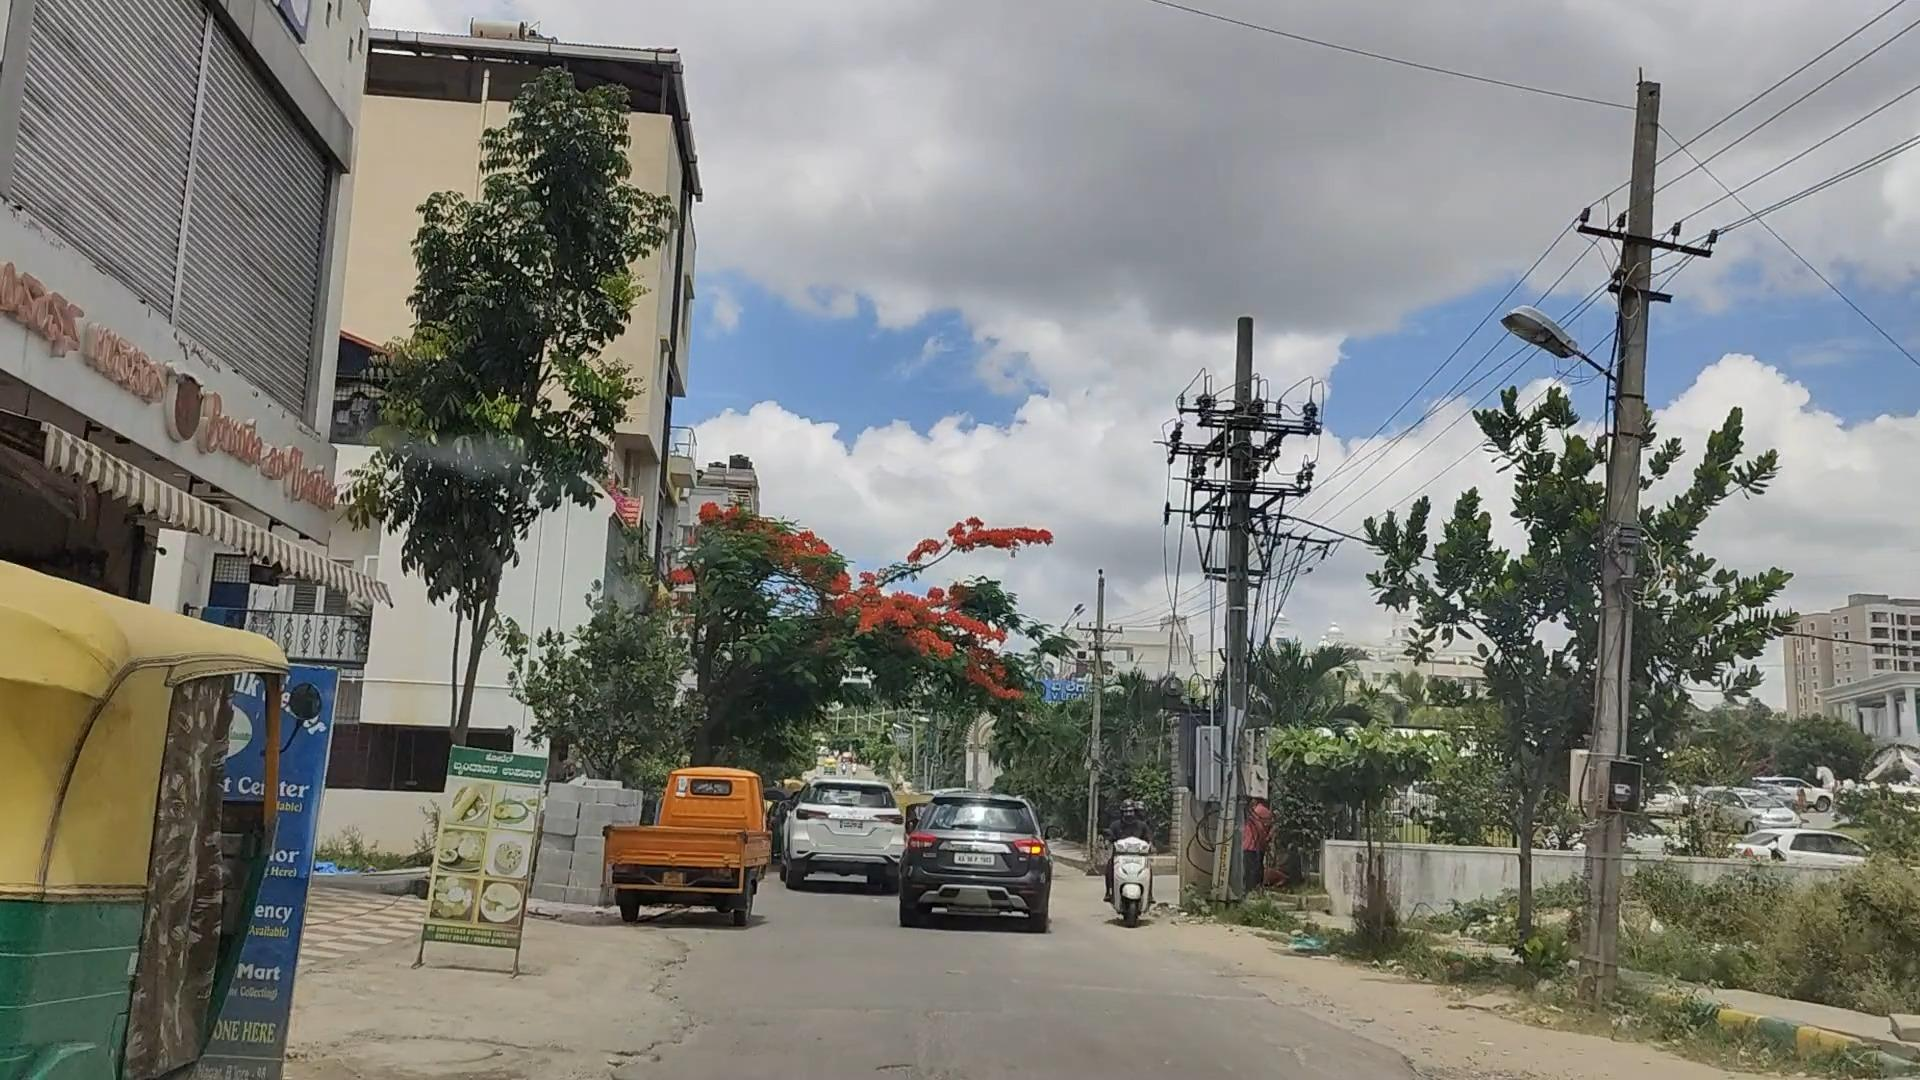LMV: (591, 716, 798, 926)
RoadDamages: (1085, 961, 1497, 1080), (287, 982, 533, 1080), (607, 916, 769, 1058)
